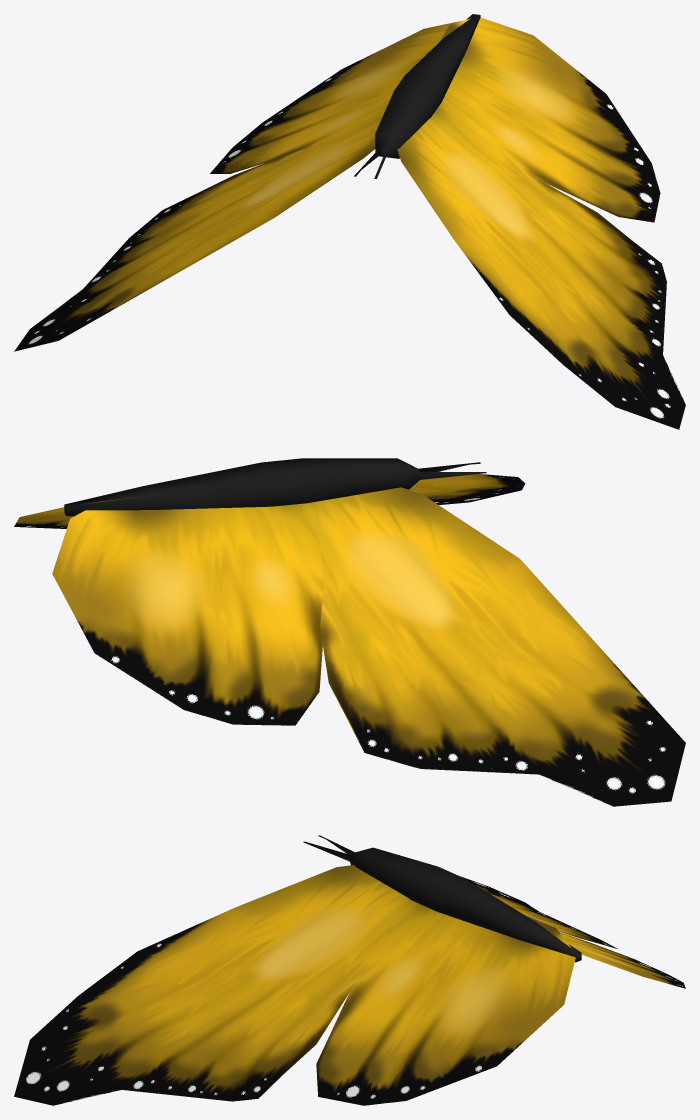
The model's file is ybfly.glb.
The picture shows the model from 3 angles, top to bottom: view 1: azimuth 30°, elevation 25°; view 2: azimuth 150°, elevation 25°; view 3: azimuth 270°, elevation 25°; orthographic projection. The views are drawn at different scales.
Parts seen in each view (by area): view 1: Plane.036, Plane.035, Cube.004; view 2: Plane.035, Cube.004, Plane.036; view 3: Plane.036, Cube.004, Plane.035.
Boxes of the visible parts, box(x1,y1,x2,y2) form: Plane.036: box(397, 17, 685, 429); Plane.035: box(14, 21, 460, 351); Cube.004: box(354, 14, 480, 178); Plane.035: box(52, 487, 685, 806); Cube.004: box(64, 458, 486, 516); Plane.036: box(14, 471, 525, 528); Plane.036: box(14, 865, 575, 1105); Cube.004: box(303, 835, 581, 962); Plane.035: box(462, 877, 685, 988).
Size of the model in its own units: 1.98 by 0.6305 by 1.96.
Materials: 2 (1 with a texture image).
